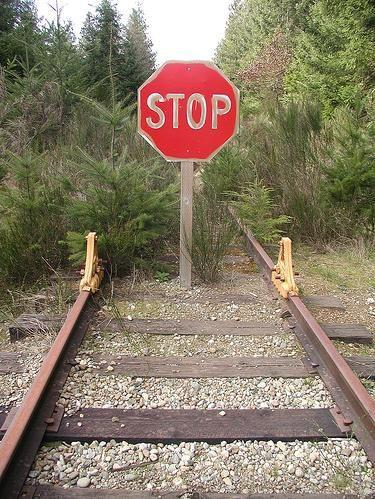Pole: (179, 164, 193, 288)
Sign: (141, 61, 236, 159)
